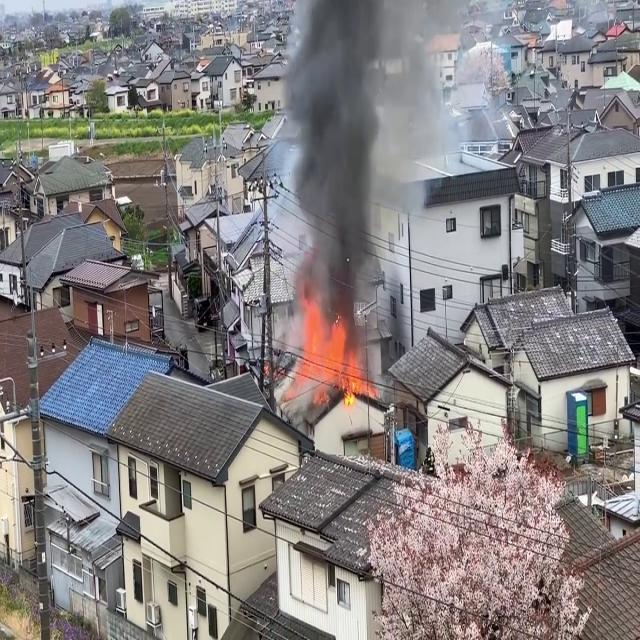Fire: (282, 304, 373, 403)
Smoke: (276, 1, 416, 344)
